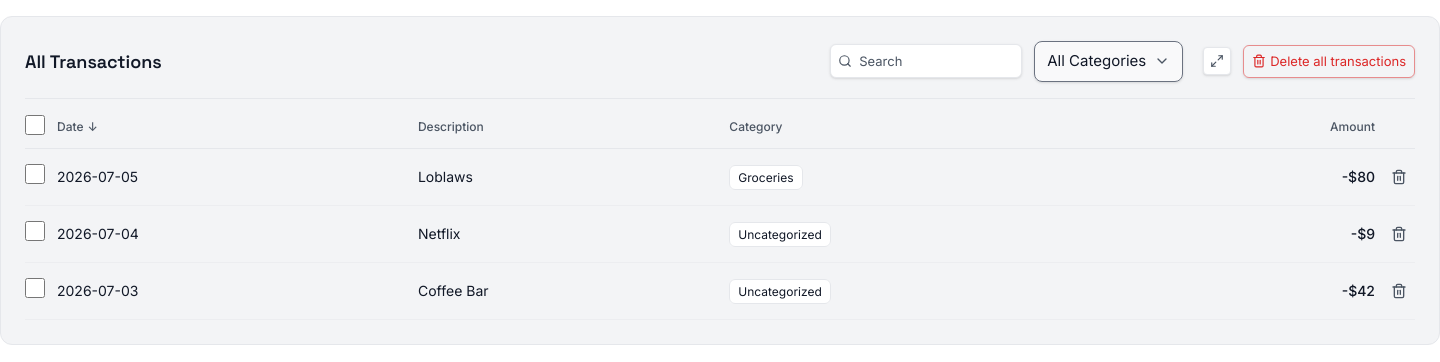
Scenario: TransactionListWidget search › matches on the category name too
In the search field named "Search transactions": (926, 61) left=830, top=44, right=1022, bottom=78, type "grocer"
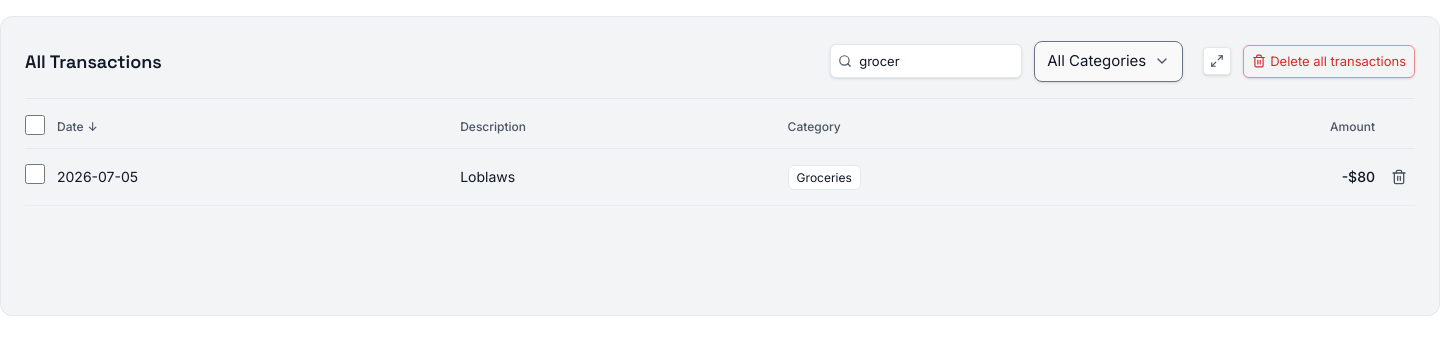
Expected: the button "Loblaws" is shown, left=460, top=166, right=515, bottom=187
Result: the button "Netflix" is gone
